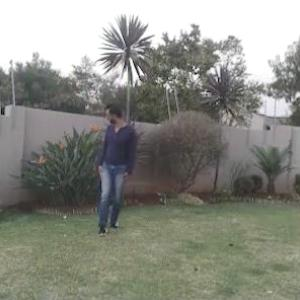follow: (90, 93, 140, 248)
